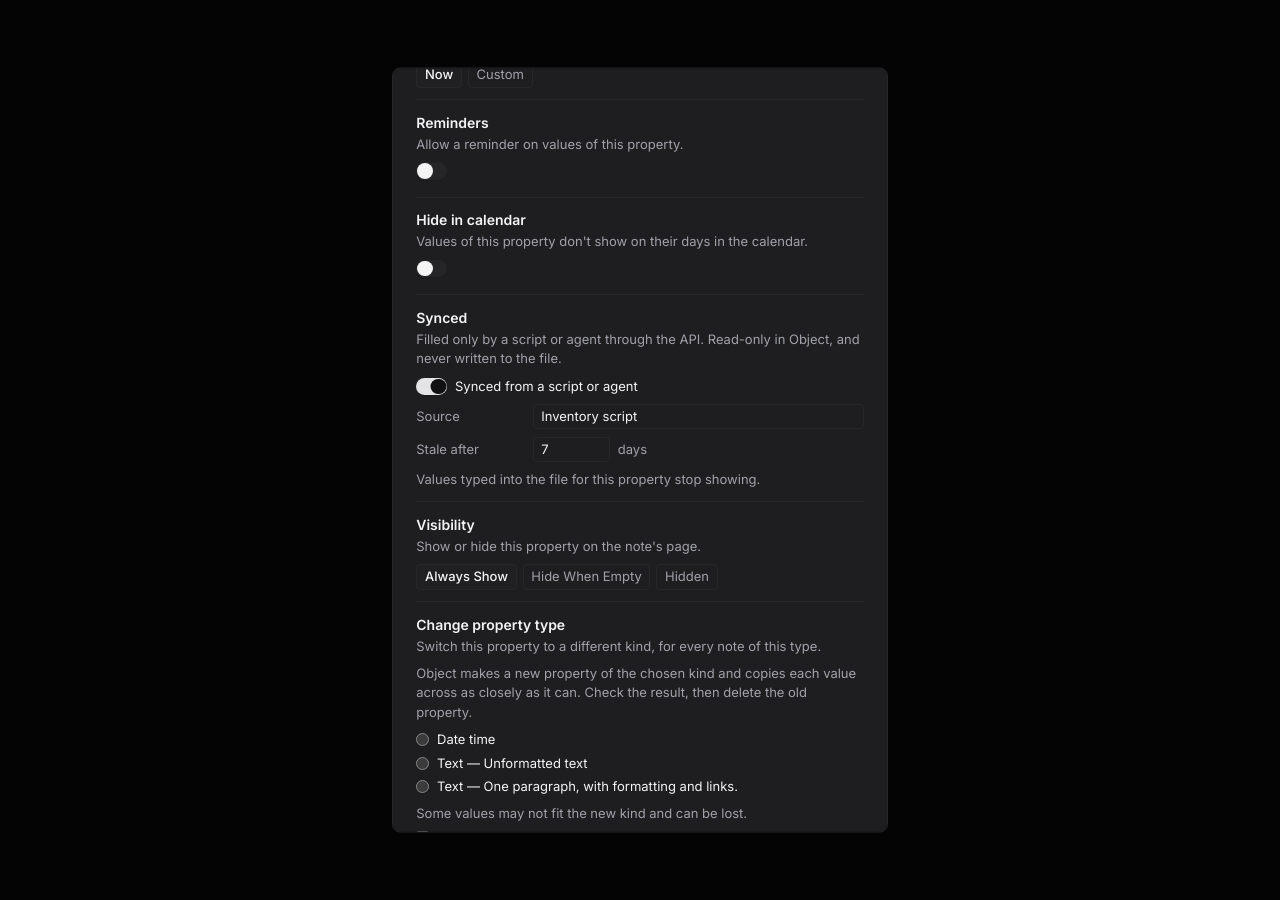
SyncedSection › stale after out of range is not saved
The width and height of the screenshot is (1280, 900).
(page scrolled)
Replace the text in the number field labelled "Stale after" with "400" at (571, 450), box [532,438,610,463]
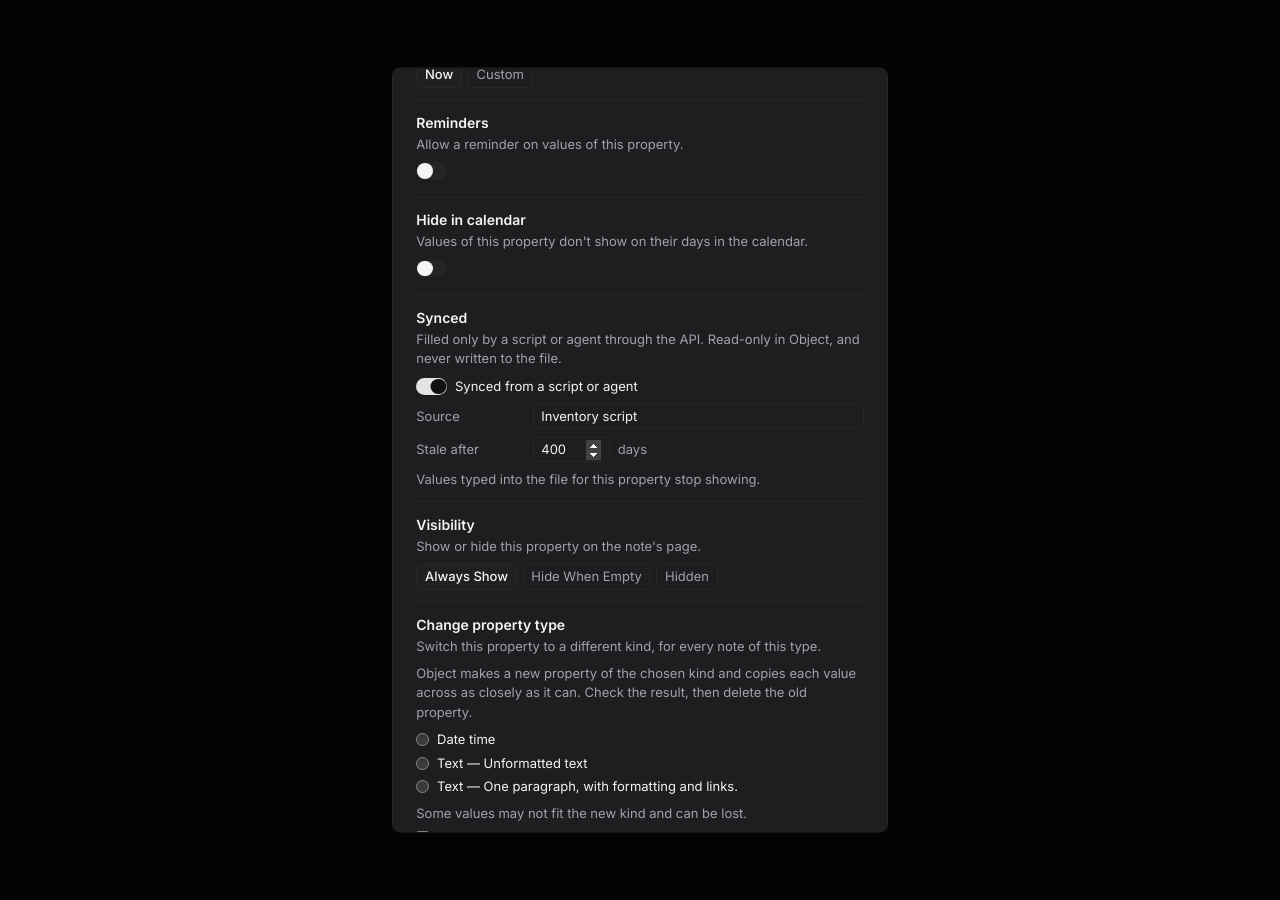
Press Tab
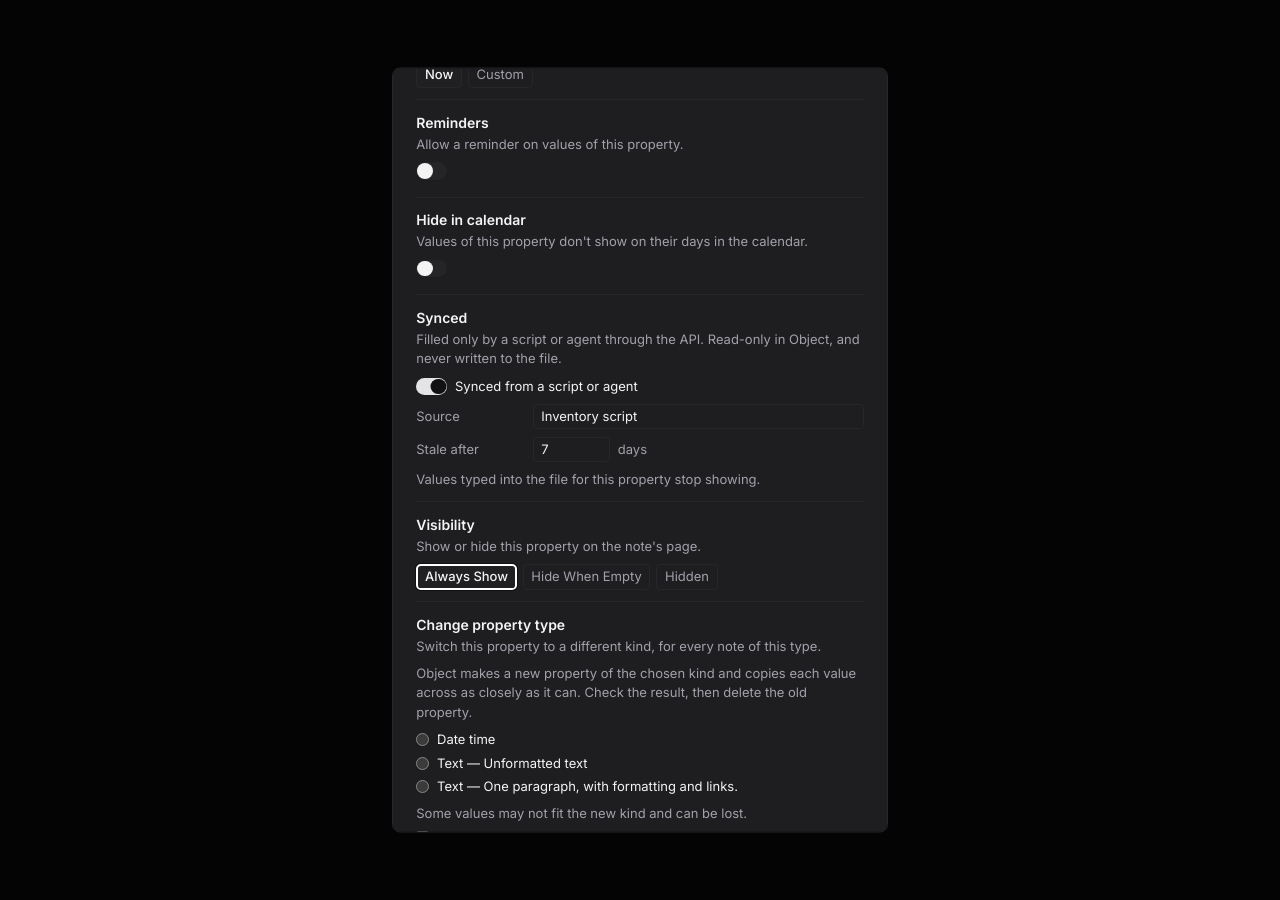
Now the number field labelled "Stale after" holds "7", box [532,438,610,463]
